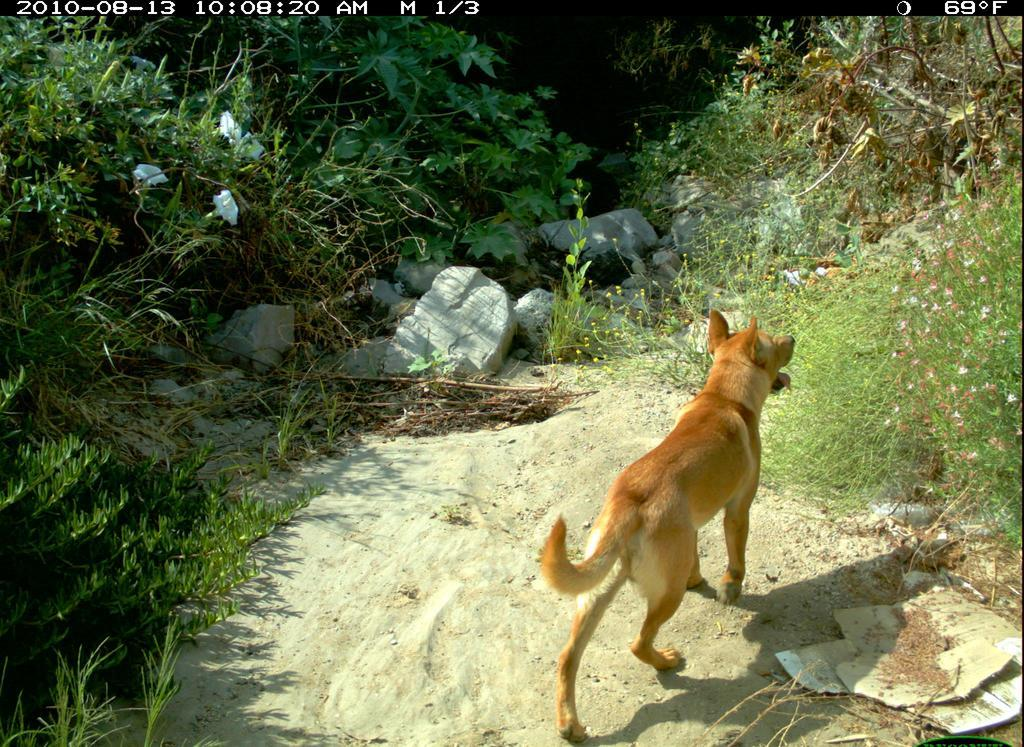dog: (524, 304, 811, 744)
